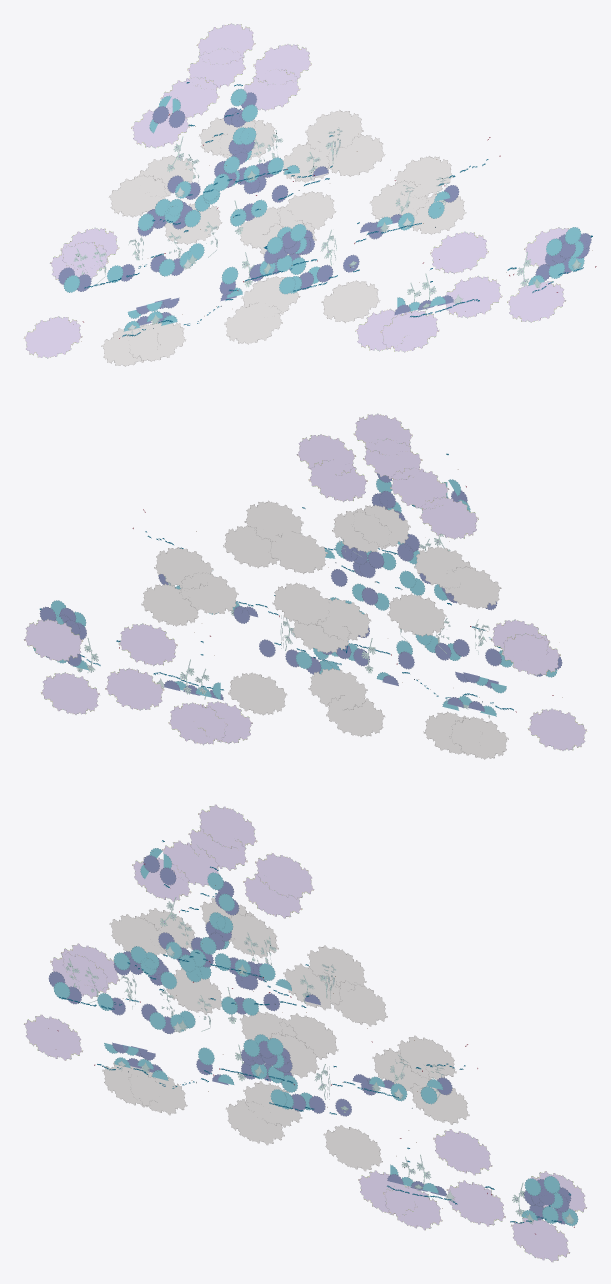
The model's file is flower02_bg.glb.
The picture shows the model from 3 angles, top to bottom: view 1: azimuth 30°, elevation 25°; view 2: azimuth 150°, elevation 25°; view 3: azimuth 330°, elevation 25°; orthographic projection.
Parts seen in each view (by area): view 1: flower02_bg; view 2: flower02_bg; view 3: flower02_bg.
Part boxes in pixels (bbox=[...]): flower02_bg: bbox=[23, 23, 596, 366]; flower02_bg: bbox=[24, 413, 586, 759]; flower02_bg: bbox=[24, 804, 586, 1262].
Size of the model in its own units: 3498 by 2161 by 136.
Materials: 12 (12 with a texture image).
